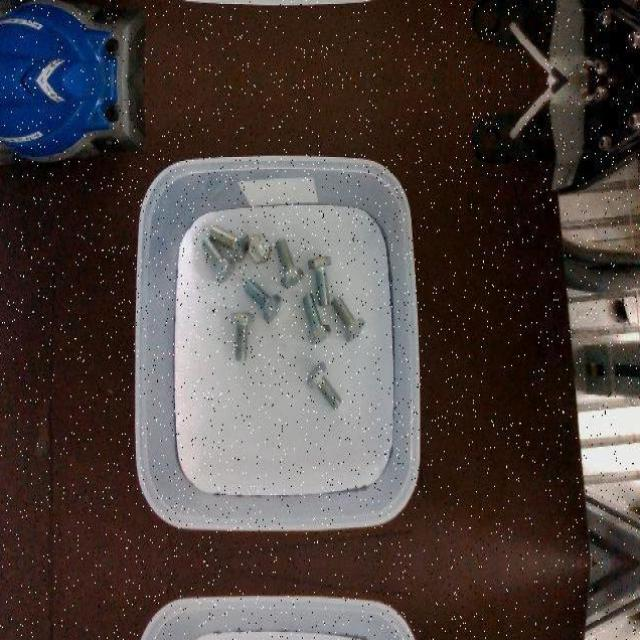screw: (244, 278, 282, 322), (307, 361, 341, 410), (202, 234, 236, 282), (332, 294, 365, 342), (302, 292, 331, 344), (210, 225, 248, 262), (276, 236, 304, 286), (230, 310, 254, 362), (308, 254, 331, 304), (248, 233, 270, 263)
